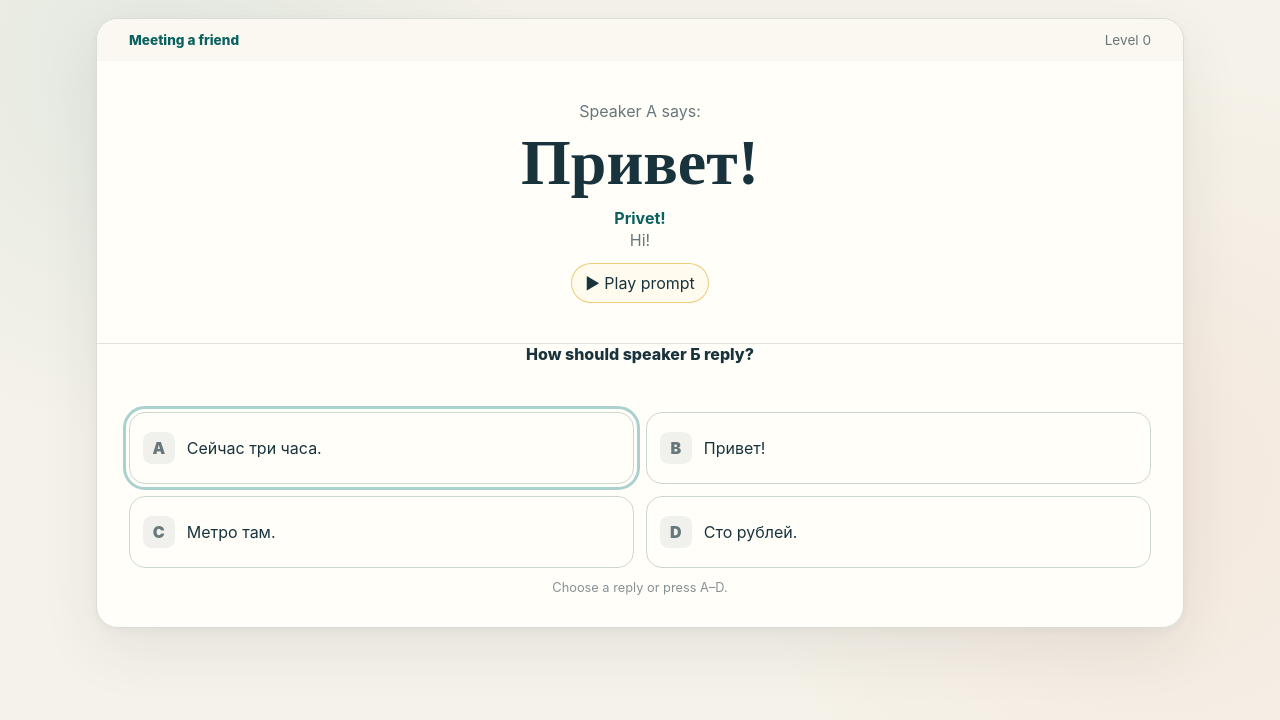
Test: MiniDialoguesGame › marks a wrong choice and the correct choice, persists the miss, and says it returns soon
Click the button "D Сто рублей." at (676, 532), box [646,496,1151,568]
(page scrolled)
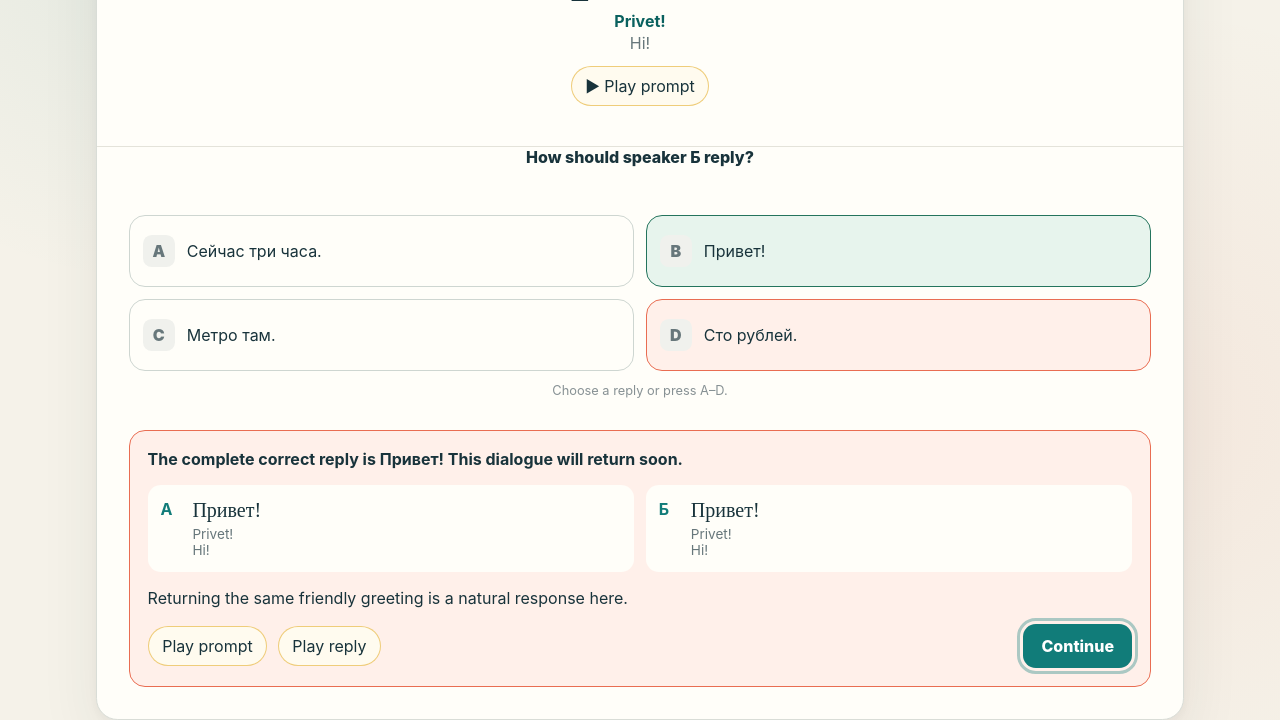
Expected: the message shows "The complete correct reply is Привет! This dialogue will return soon.", [148,449,683,469]
